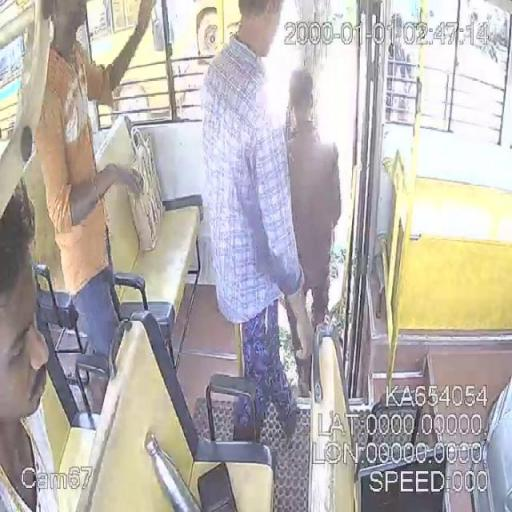persona: (29, 0, 154, 415), (200, 0, 313, 442), (280, 66, 343, 396), (0, 176, 59, 510)
